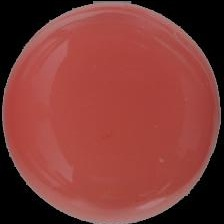54868-4250: (0, 0, 224, 224)
